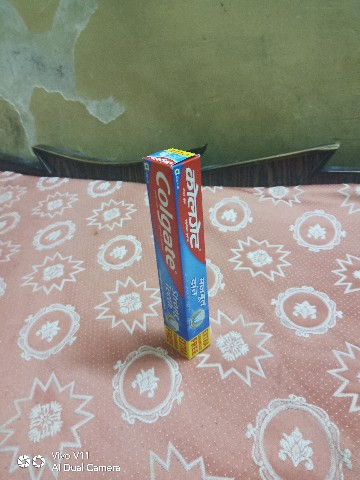colgatetoothpaste big: (134, 145, 224, 375)
